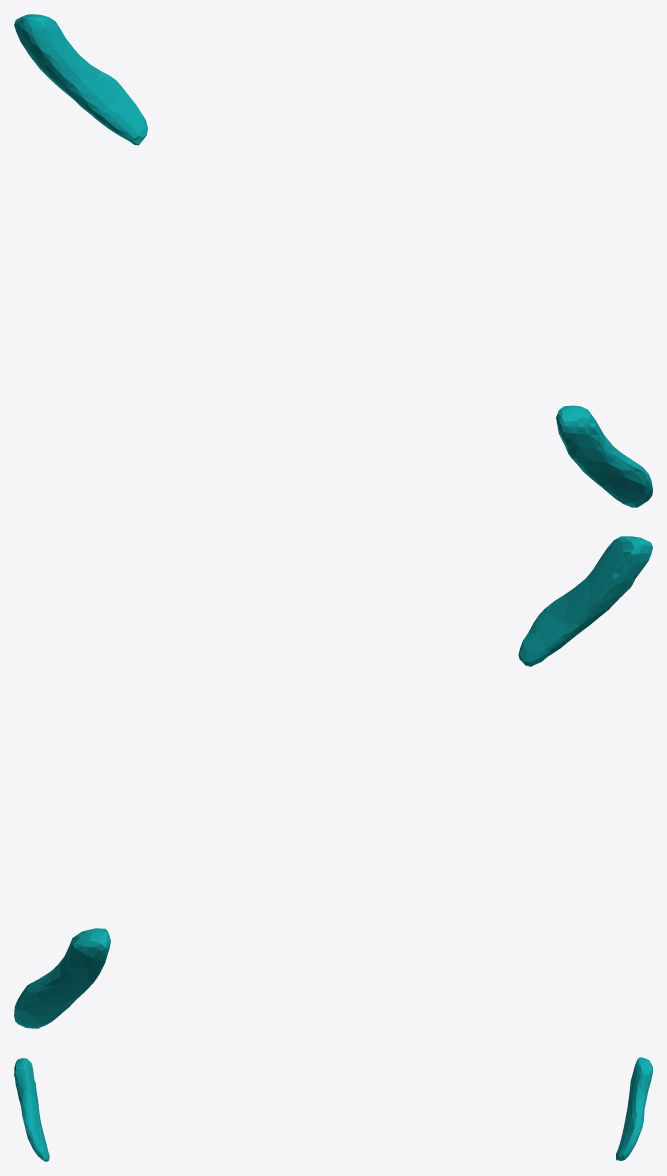
The picture shows the model from 3 angles, top to bottom: view 1: azimuth 30°, elevation 25°; view 2: azimuth 150°, elevation 25°; view 3: azimuth 270°, elevation 25°; orthographic projection. The views are drawn at different scales.
Visible parts, largest first — view 1: 156.obj; view 2: 156.obj; view 3: 156.obj.
Boxes of the visible parts, box(x1,y1,x2,y2) form: 156.obj: box(14, 14, 652, 507); 156.obj: box(14, 536, 652, 1028); 156.obj: box(14, 1057, 652, 1161).
Size of the model in its own units: 949 by 1099 by 8170.
